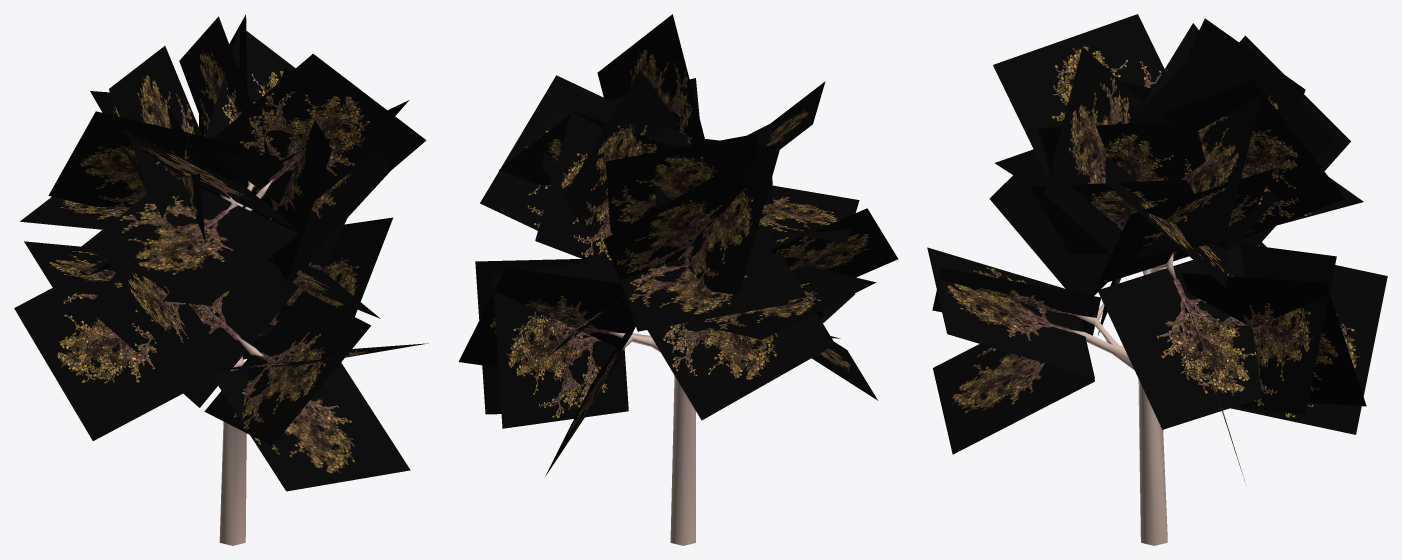
Rendered from tree17.glb.
The picture shows the model from 3 angles, left to right: view 1: azimuth 30°, elevation 25°; view 2: azimuth 150°, elevation 25°; view 3: azimuth 270°, elevation 25°; orthographic projection. The views are drawn at different scales.
Bounding box in the file's own units: 5.57 × 7.01 × 5.67.
2 materials, 1 textured.
